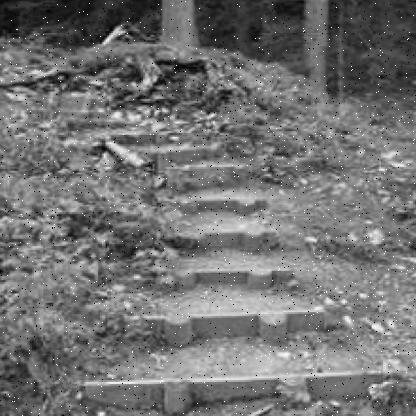stair_up: (87, 190, 354, 386)
